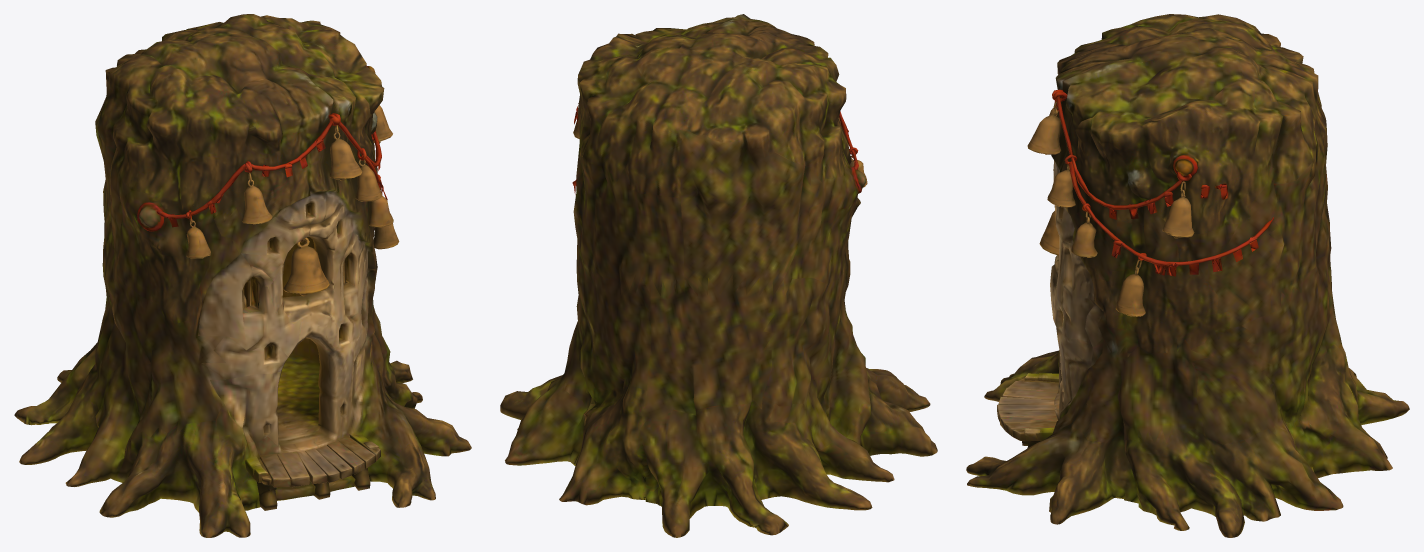
File: monastery.glb
3 views of the same model, side by side, from view 1: azimuth 30°, elevation 25°; view 2: azimuth 150°, elevation 25°; view 3: azimuth 270°, elevation 25° (orthographic).
Visible parts, largest first — view 1: geometry_0; view 2: geometry_0; view 3: geometry_0.
Part boxes in pixels (x1,y1,x2,y2): geometry_0: (14, 14, 471, 537); geometry_0: (500, 14, 937, 537); geometry_0: (966, 14, 1409, 537).
Size of the model in its own units: 0.9458 by 0.9512 by 0.9463.
Materials: 1 (1 with a texture image).
